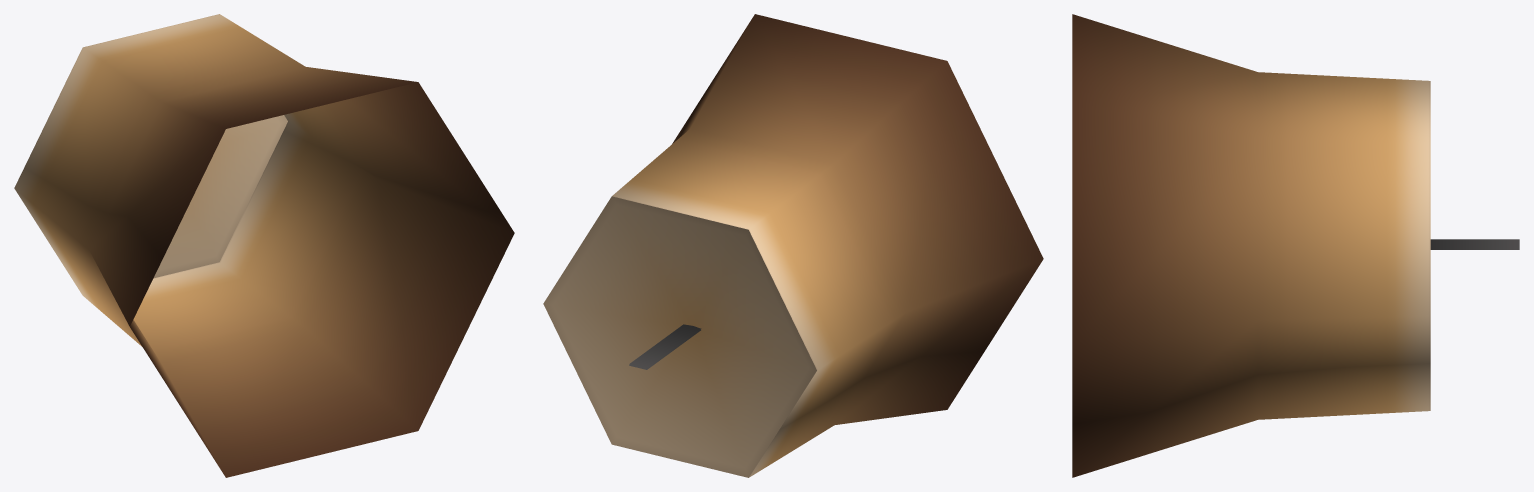
Rendered from Candle_E.fbx.
The picture shows the model from 3 angles, left to right: view 1: azimuth 30°, elevation 25°; view 2: azimuth 150°, elevation 25°; view 3: azimuth 270°, elevation 25°; orthographic projection. The views are drawn at different scales.
Parts seen in each view (by area): view 1: Candle_E; view 2: Candle_E; view 3: Candle_E.
Part boxes in pixels (x1,y1,x2,y2): Candle_E: (14,14,514,477); Candle_E: (543,14,1043,477); Candle_E: (1072,14,1519,477).
Bounding box in the file's own units: 0.2824 × 0.2446 × 0.2713.
